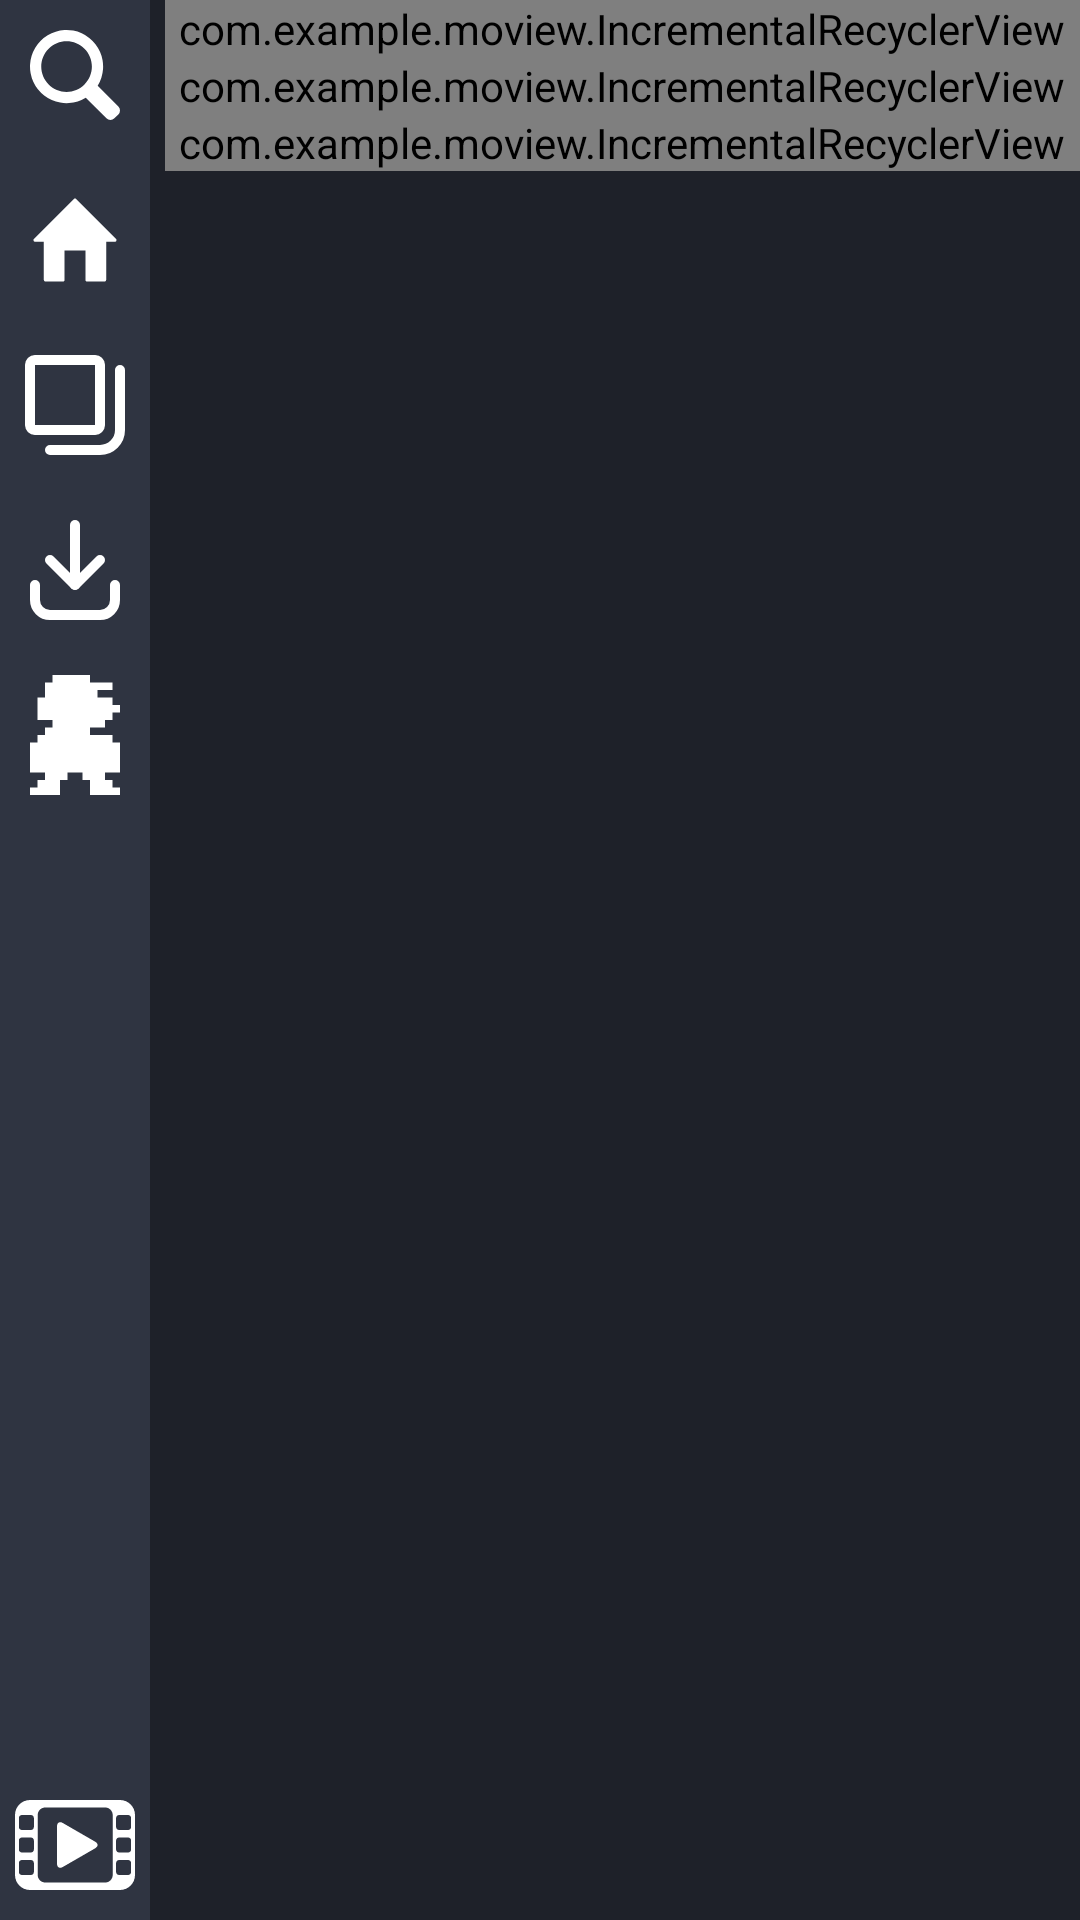

Named icons in this screenshot (1080 x 1920) and their centers, (x=x, y=y):
collections: (x=75, y=405)
download: (x=75, y=570)
home: (x=75, y=240)
search: (x=75, y=75)
